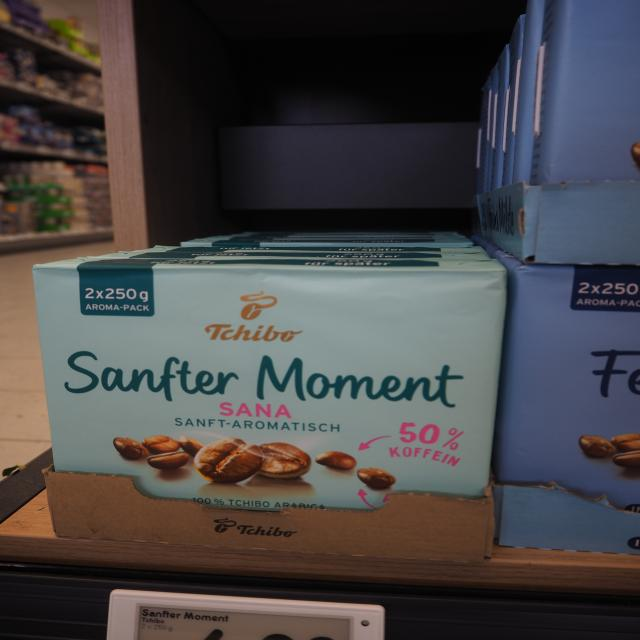Empty Shelf: (52, 1, 499, 260)
SM Gemahlen: (25, 252, 512, 561)
